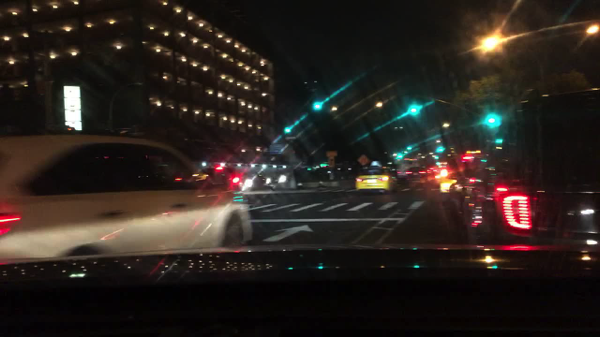car: (0, 133, 254, 250), (443, 91, 598, 247), (355, 159, 400, 197), (436, 160, 471, 198), (402, 163, 440, 191), (393, 153, 426, 184), (199, 165, 237, 190), (231, 169, 267, 194), (262, 169, 300, 191), (428, 163, 447, 177)
traffic light: (487, 112, 498, 128), (282, 123, 294, 135), (313, 99, 323, 112), (409, 103, 419, 115), (437, 142, 444, 153), (397, 148, 403, 158)
traffic sign: (355, 153, 371, 169), (268, 143, 288, 155), (326, 157, 337, 170), (324, 150, 338, 160), (286, 136, 298, 141)
